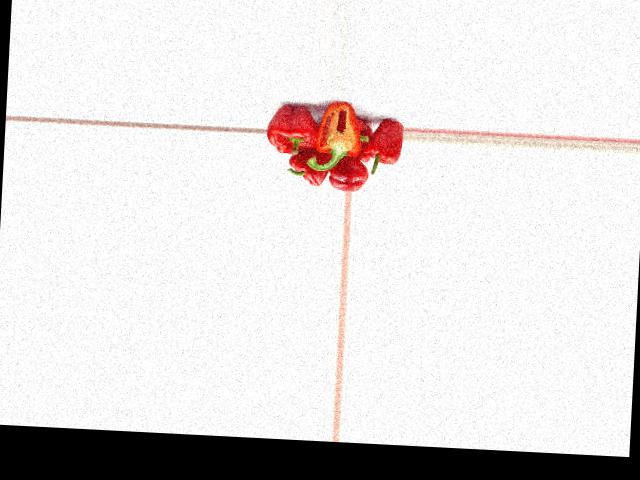bell_pepper: (286, 150, 331, 186)
